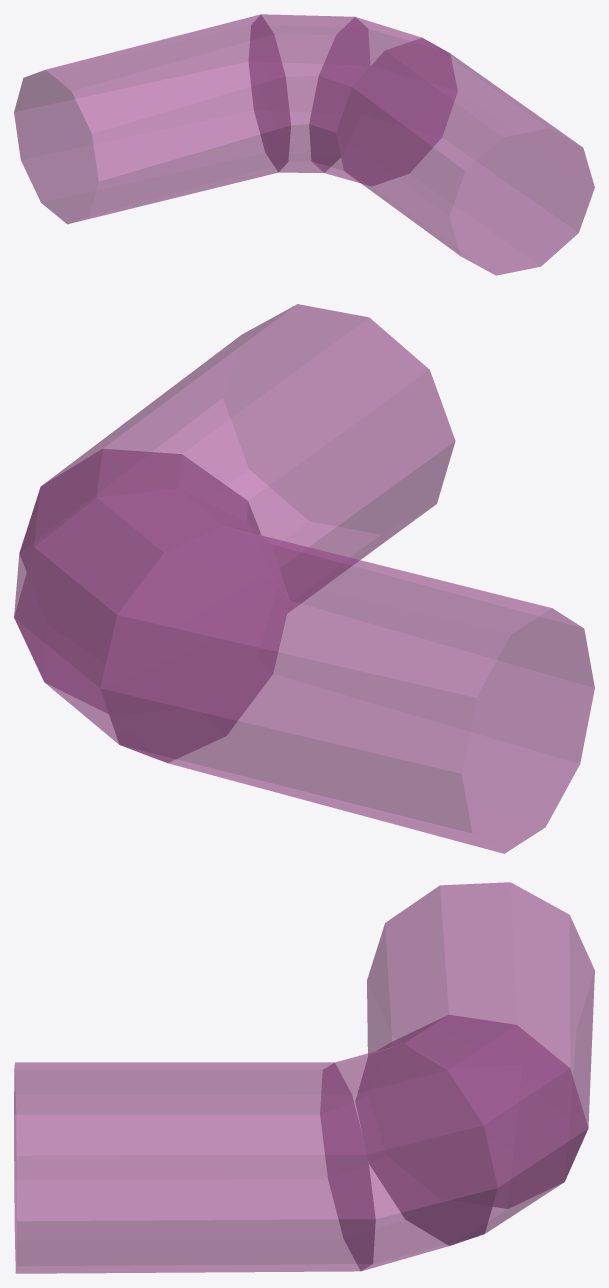
The model's file is SM_Bld_Pipe_Large_Group_Turn_01_Collision.fbx.
The picture shows the model from 3 angles, top to bottom: view 1: azimuth 30°, elevation 25°; view 2: azimuth 150°, elevation 25°; view 3: azimuth 270°, elevation 25°; orthographic projection. The views are drawn at different scales.
Parts seen in each view (by area): view 1: SM_Bld_Pipe_Large_Group_Turn_01_Collision; view 2: SM_Bld_Pipe_Large_Group_Turn_01_Collision; view 3: SM_Bld_Pipe_Large_Group_Turn_01_Collision.
Boxes of the visible parts, x1=… form: SM_Bld_Pipe_Large_Group_Turn_01_Collision: x1=14, y1=14, x2=594, y2=275; SM_Bld_Pipe_Large_Group_Turn_01_Collision: x1=14, y1=304, x2=594, y2=853; SM_Bld_Pipe_Large_Group_Turn_01_Collision: x1=14, y1=882, x2=594, y2=1273.
Size of the model in its own units: 324 by 119 by 330.
